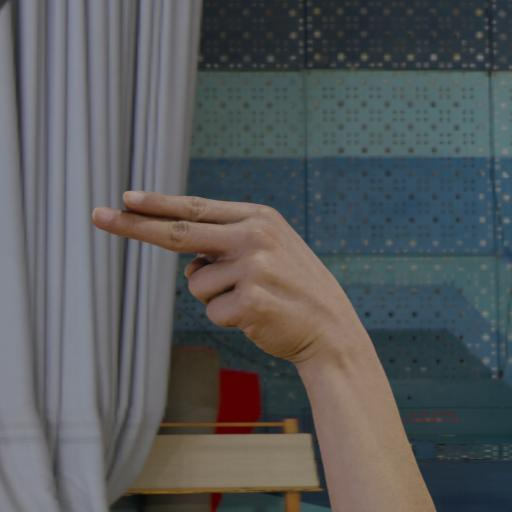H: (77, 182, 382, 444)
